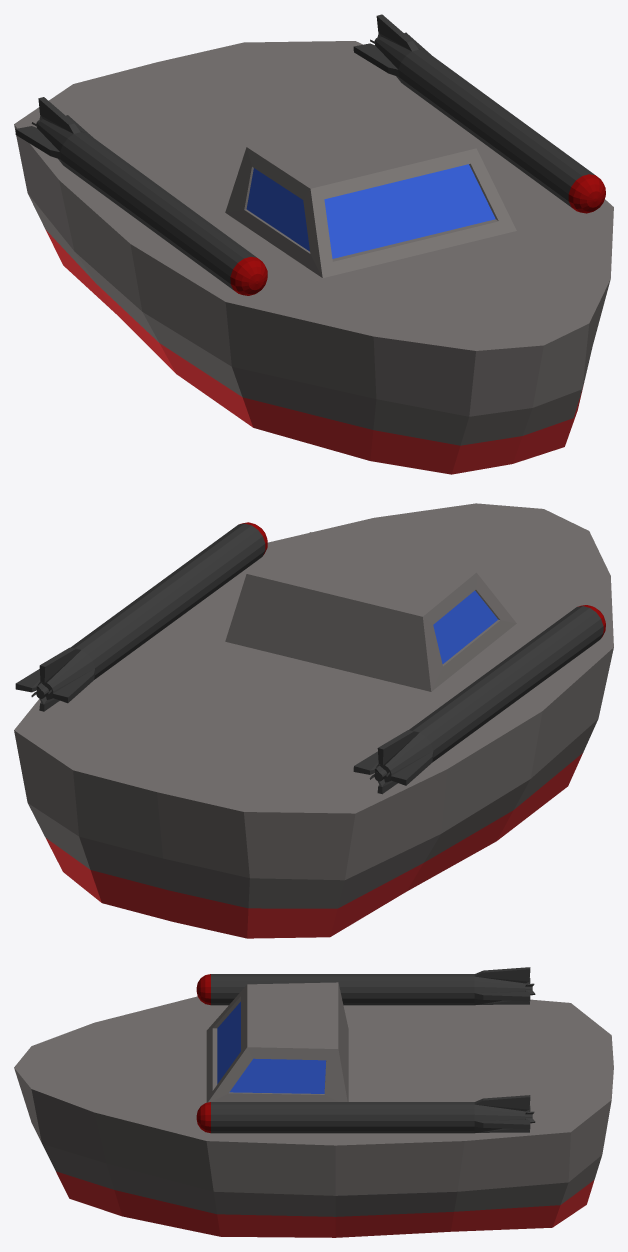
Rendered from one_tile_ship.fbx.
3 renders of one model, top to bottom at view 1: azimuth 30°, elevation 25°; view 2: azimuth 150°, elevation 25°; view 3: azimuth 270°, elevation 25°, orthographic. The views are drawn at different scales.
Visible parts, largest first — view 1: Cube.001, Cylinder, Cylinder.001; view 2: Cube.001, Cylinder, Cylinder.001; view 3: Cube.001, Cylinder.001, Cylinder.
Boxes of the visible parts, bbox=[...] form: Cube.001: bbox=[14, 41, 613, 474]; Cylinder: bbox=[15, 97, 267, 295]; Cylinder.001: bbox=[353, 14, 605, 213]; Cube.001: bbox=[14, 503, 613, 938]; Cylinder: bbox=[353, 605, 605, 794]; Cylinder.001: bbox=[15, 522, 267, 711]; Cube.001: bbox=[14, 982, 613, 1237]; Cylinder.001: bbox=[196, 1095, 535, 1133]; Cylinder: bbox=[196, 967, 535, 1005].
Size of the model in its own units: 1.51 by 0.4484 by 0.9285.
